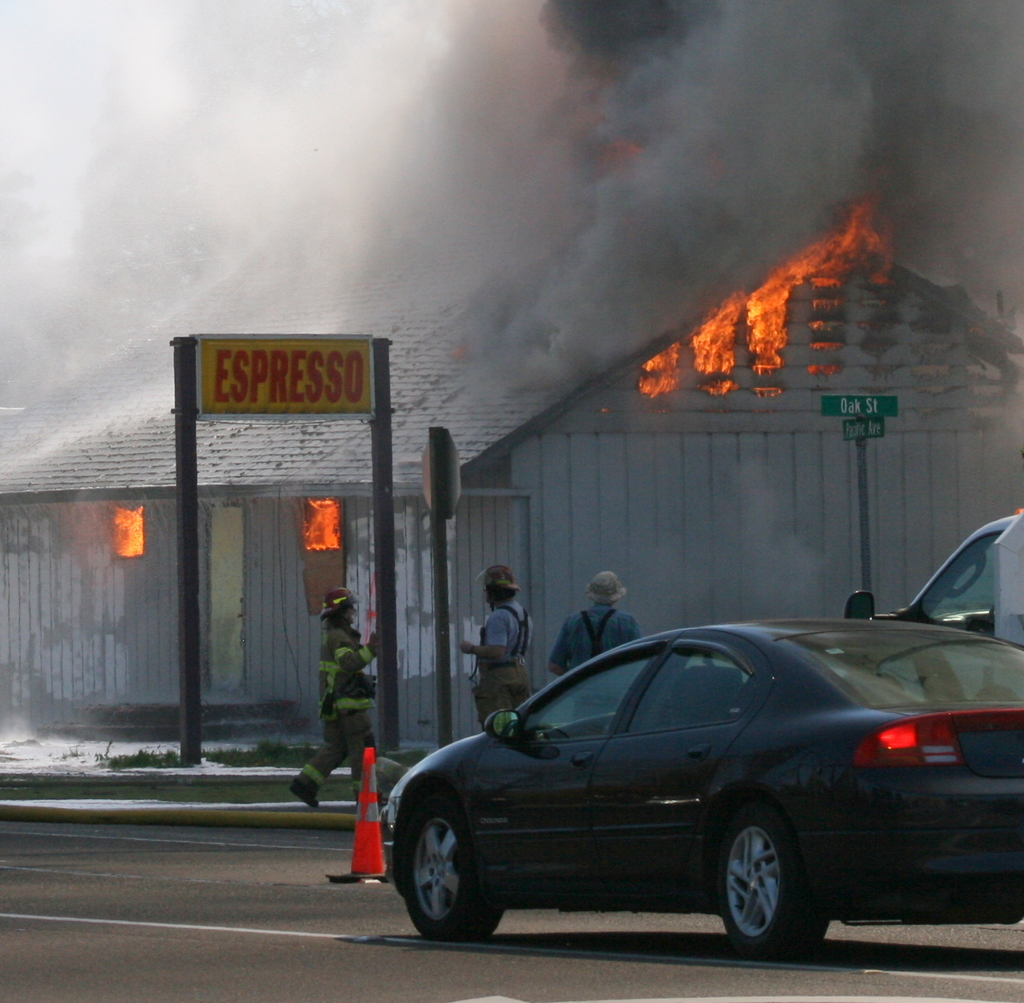Car: (371, 599, 1015, 961)
